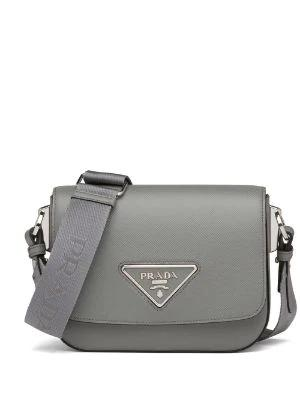PRADA: (122, 264, 198, 308)
